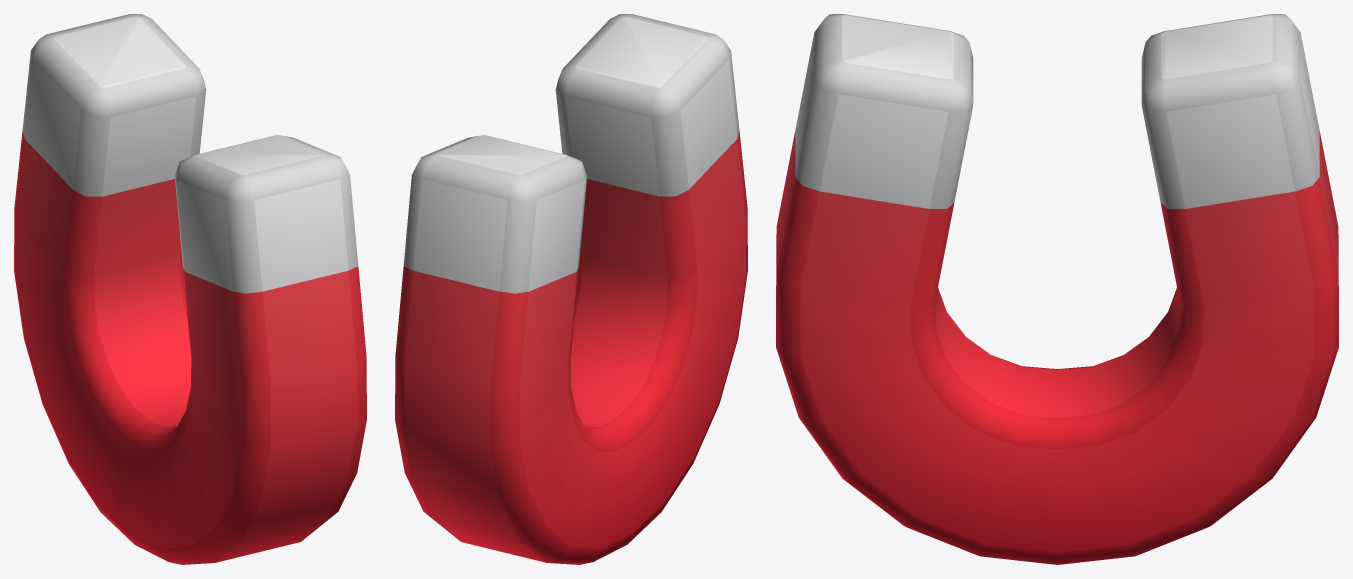
Rendered from Magnet_V2_00.fbx.
3 views of the same model, side by side, from view 1: azimuth 30°, elevation 25°; view 2: azimuth 150°, elevation 25°; view 3: azimuth 270°, elevation 25° (orthographic). The views are drawn at different scales.
Parts seen in each view (by area): view 1: Magnet_V2_00; view 2: Magnet_V2_00; view 3: Magnet_V2_00.
Part boxes in pixels (bbox=[...]): Magnet_V2_00: bbox=[14, 14, 366, 564]; Magnet_V2_00: bbox=[395, 14, 747, 564]; Magnet_V2_00: bbox=[776, 14, 1338, 564].
Bounding box in the file's own units: 0.1158 × 0.3972 × 0.4038.
1 material, 1 textured.
